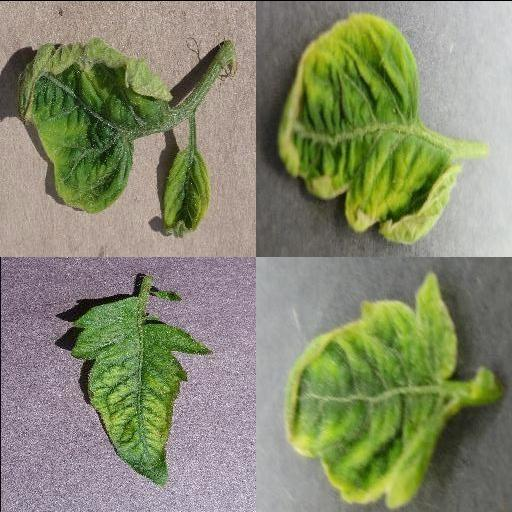Mosaic Virus: (68, 295, 212, 487)
Yellow Leaf Curl Virus: (277, 10, 463, 244), (283, 270, 457, 508), (14, 36, 172, 212), (159, 145, 215, 239)
